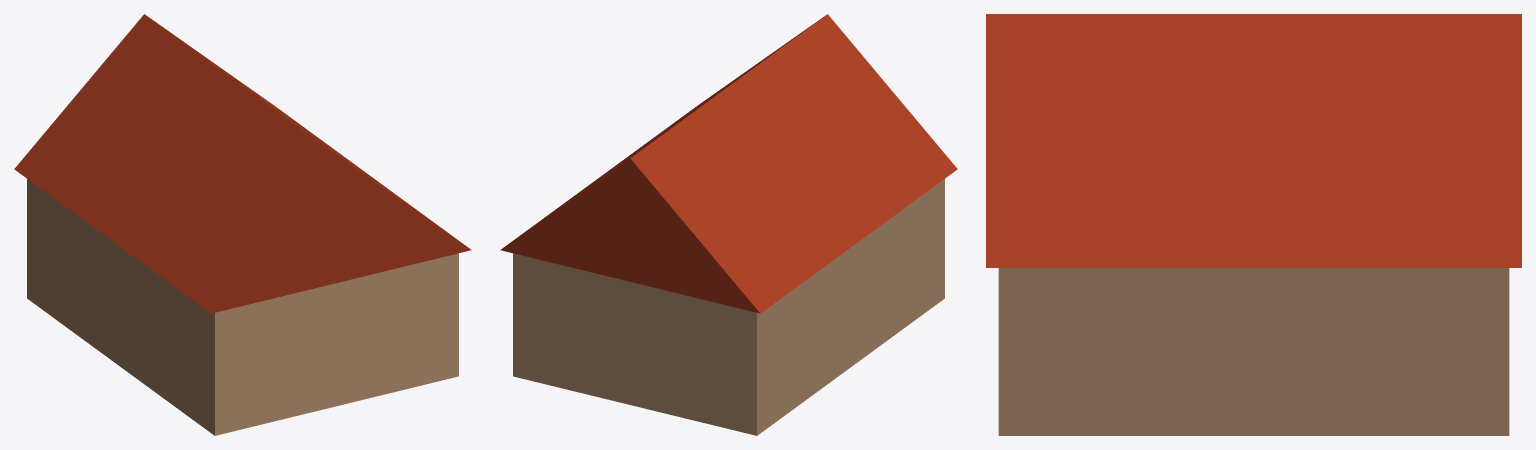
File: house.glb
3 renders of one model, left to right at view 1: azimuth 30°, elevation 25°; view 2: azimuth 150°, elevation 25°; view 3: azimuth 270°, elevation 25°, orthographic. The views are drawn at different scales.
Parts seen in each view (by area): view 1: House; view 2: House; view 3: House.
Part boxes in pixels (box(x1,y1,x2,y2)): House: box(14, 14, 471, 435); House: box(500, 14, 957, 435); House: box(986, 14, 1521, 435).
Size of the model in its own units: 6.4 by 5.9 by 8.4.
Materials: 1 (1 with a texture image).
